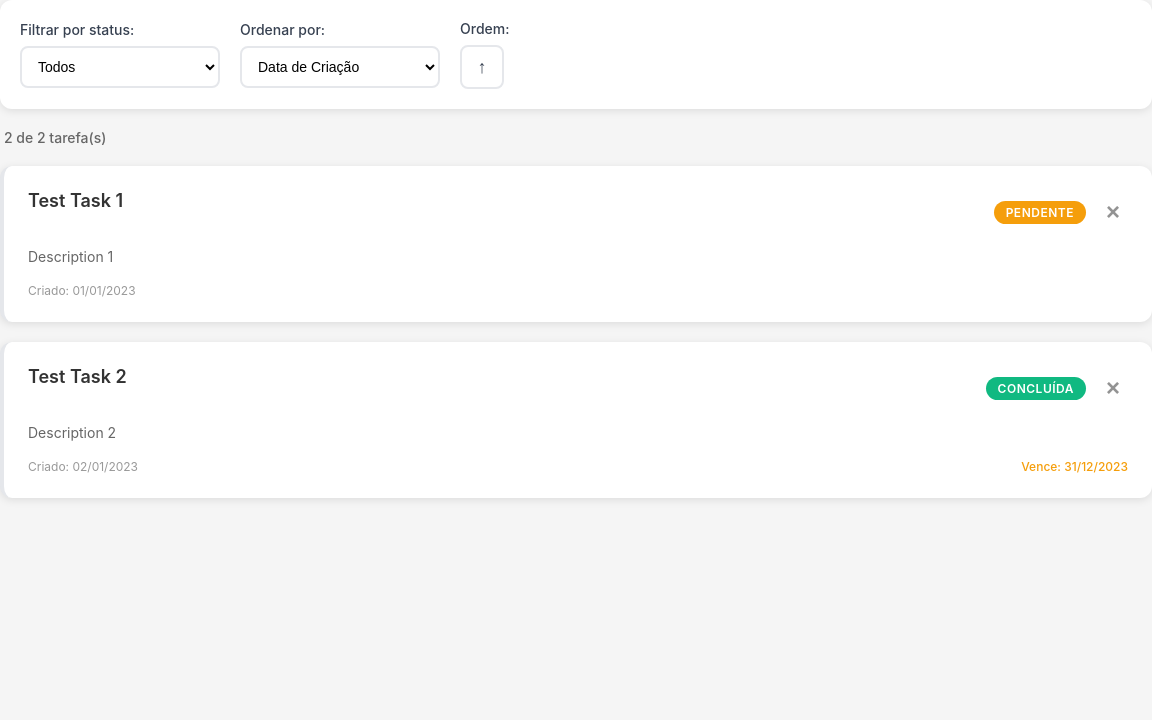
TaskList › should filter tasks by status
The width and height of the screenshot is (1152, 720).
Expected: the heading "Test Task 1" is shown, [28,190,123,211]
Step 1. Select "Concluída" in the dropdown labelled "Filtrar por status:" → (120, 67), box [20,46,220,88]
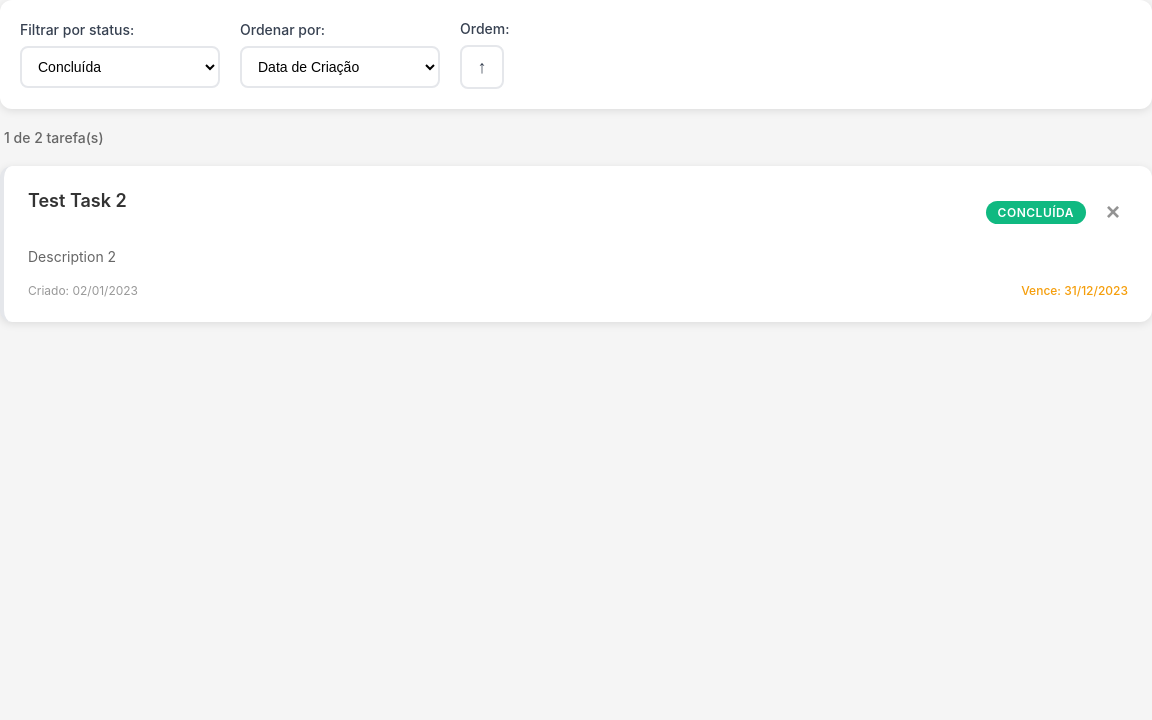
Expected: the heading "Test Task 2" is shown, [28,190,127,211]
Expected: the heading "Test Task 1" is gone
